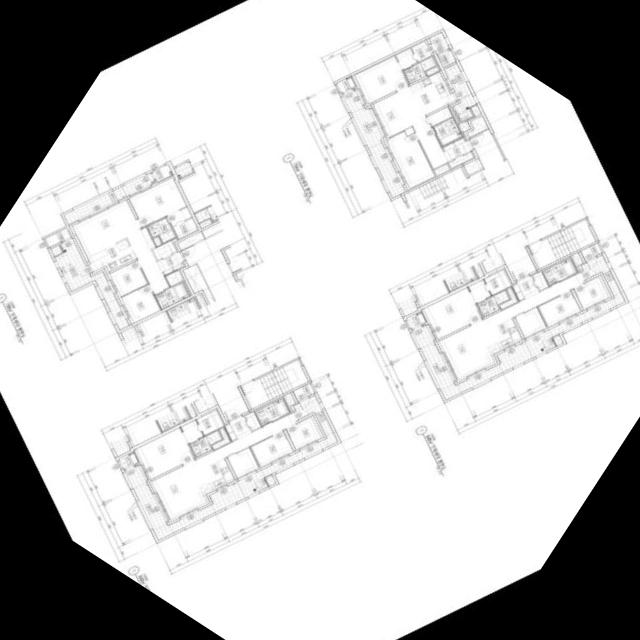background: (0, 0, 640, 640)
space_balconi: (123, 395, 337, 540), (411, 255, 624, 400), (341, 88, 404, 198), (53, 238, 128, 330), (63, 172, 154, 224), (443, 63, 475, 122), (428, 32, 448, 54)
space_bedroom: (422, 287, 481, 339), (135, 427, 193, 479), (128, 177, 185, 227), (385, 131, 434, 188), (353, 56, 407, 104), (120, 284, 159, 323), (250, 431, 292, 467), (537, 291, 579, 326), (108, 260, 146, 296), (572, 277, 607, 309), (285, 417, 320, 449)
space_dressroom: (467, 269, 510, 303), (180, 410, 223, 443), (395, 41, 432, 69), (166, 207, 197, 239)
space_front: (440, 137, 472, 168), (223, 415, 251, 441), (511, 275, 538, 301), (156, 251, 183, 275)
space_kitchen: (410, 71, 455, 115), (86, 237, 136, 271), (479, 318, 521, 354), (192, 458, 233, 494)
space_living_room: (438, 273, 583, 380), (151, 413, 295, 520), (71, 200, 168, 294), (372, 85, 447, 169)
space_other: (226, 447, 258, 478), (514, 307, 545, 337), (44, 228, 70, 247), (426, 107, 451, 126), (151, 241, 175, 260), (466, 116, 487, 137), (498, 287, 516, 309), (580, 243, 601, 261), (211, 428, 229, 449), (292, 383, 313, 401), (463, 158, 482, 175), (436, 50, 454, 67), (164, 270, 182, 287), (244, 412, 260, 431), (532, 271, 548, 290), (433, 164, 448, 175), (572, 252, 582, 266), (49, 245, 61, 256), (469, 105, 480, 117), (284, 393, 294, 406), (425, 66, 438, 76), (264, 475, 275, 486), (457, 121, 468, 132), (552, 335, 562, 346), (152, 236, 160, 246)
space_outdoor_room: (151, 164, 172, 182), (405, 312, 425, 329), (117, 452, 137, 469), (335, 76, 354, 93)
space_staircase: (527, 219, 595, 269), (240, 359, 307, 409)
space_toilet: (254, 398, 289, 426), (542, 258, 576, 286), (402, 56, 435, 84), (154, 282, 188, 309), (476, 290, 509, 317), (188, 430, 221, 457), (432, 117, 461, 146), (146, 217, 175, 243)
